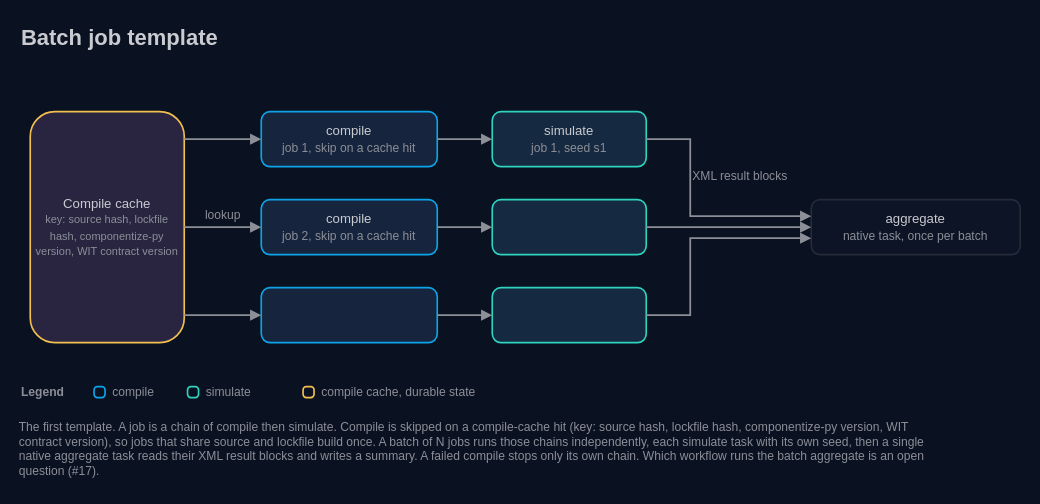
This 1040x504 diagram has some shape labels left out. Each missing label, with the centre of its shape:
compile job N, skip on a cache hit: point (349, 314)
simulate job 2, seed s2: point (569, 226)
simulate job N, seed sN: point (569, 314)
